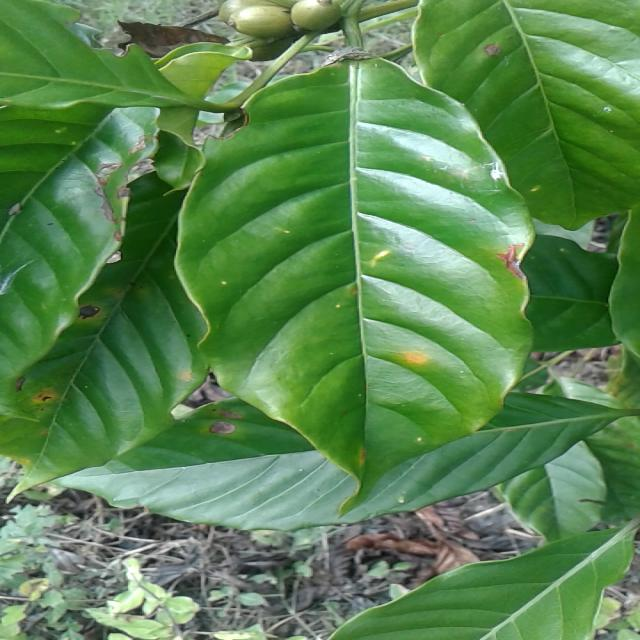Enfermedad-Roya: (177, 60, 536, 506)
